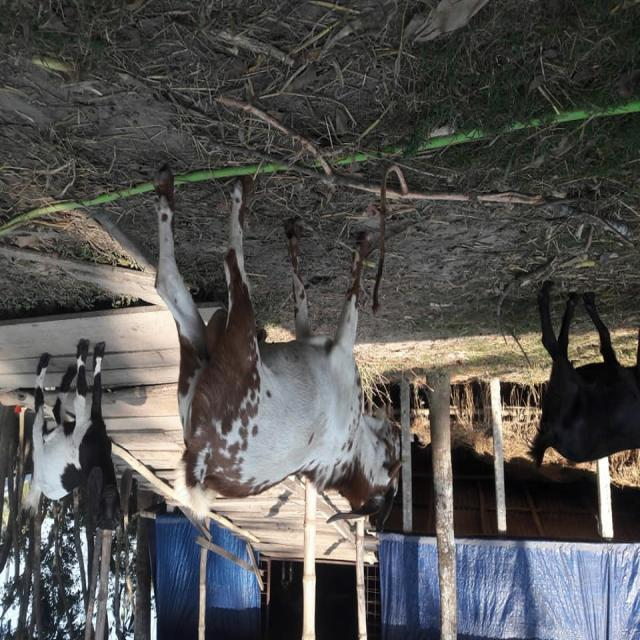Goat: (151, 165, 405, 535), (525, 280, 639, 471), (18, 340, 126, 534)
